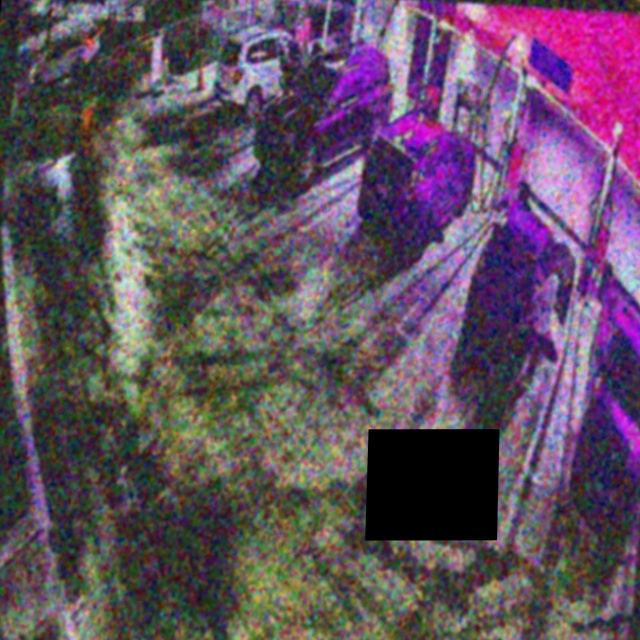Car: (251, 33, 395, 198), (462, 193, 577, 379), (353, 105, 481, 261)
